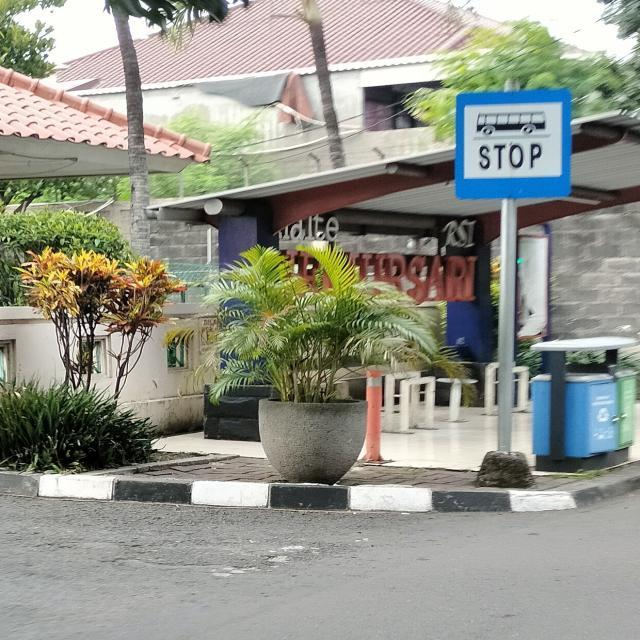Pemberhentian Bus: (457, 91, 572, 199)
